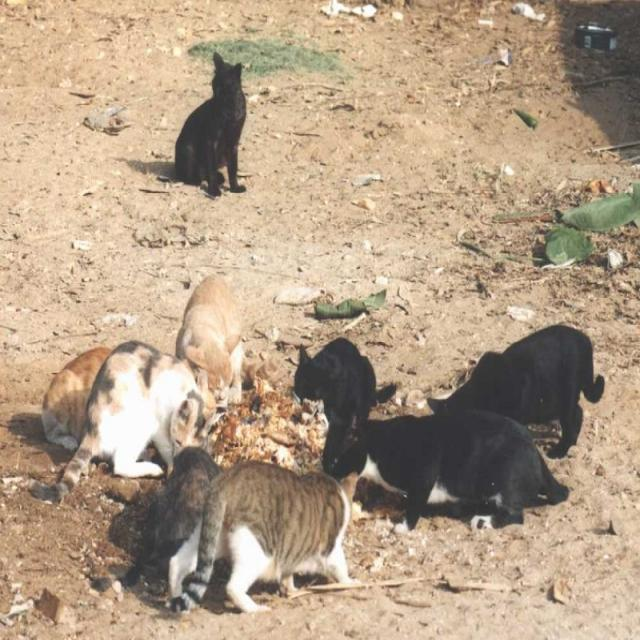cat: (332, 410, 569, 528), (171, 462, 356, 612), (429, 325, 605, 457), (58, 342, 204, 497), (294, 338, 396, 472), (146, 447, 220, 597), (175, 52, 246, 195), (176, 276, 244, 406), (42, 347, 111, 450)
